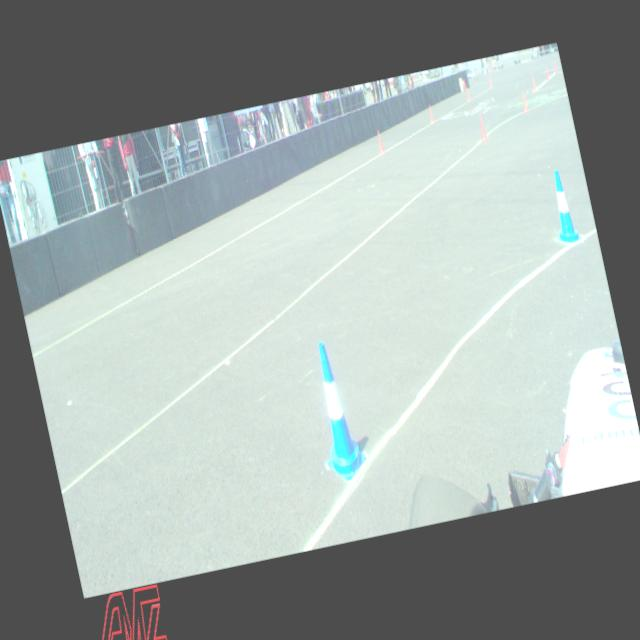blue_cone: (301, 337, 370, 484), (542, 167, 584, 246)
unknown_cone: (476, 112, 489, 142), (519, 90, 529, 114), (375, 129, 385, 153), (427, 104, 434, 122), (530, 74, 537, 92), (543, 65, 550, 81), (464, 86, 470, 102), (552, 60, 558, 74), (487, 74, 492, 88)
